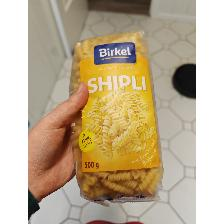Nudeln: (68, 28, 164, 208)
